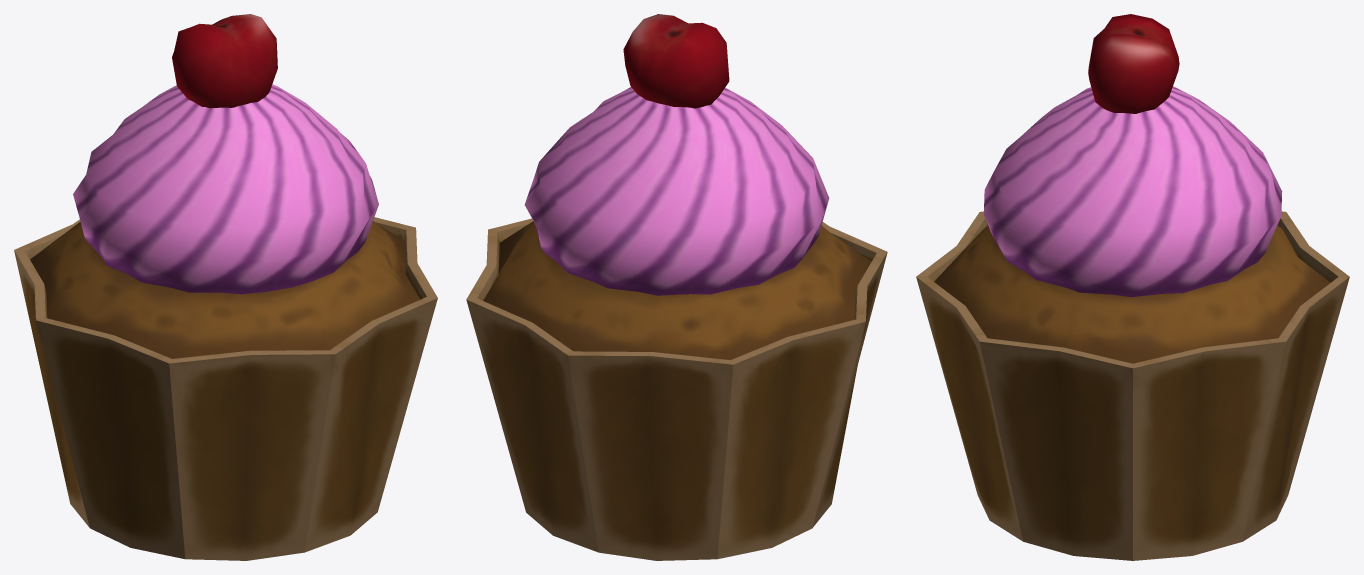
Rendered from cup_cake_001.fbx.
3 views of the same model, side by side, from view 1: azimuth 30°, elevation 25°; view 2: azimuth 150°, elevation 25°; view 3: azimuth 270°, elevation 25° (orthographic).
Parts seen in each view (by area): view 1: cup_cake_001; view 2: cup_cake_001; view 3: cup_cake_001.
Part boxes in pixels (x1,y1,x2,y2): cup_cake_001: [14, 14, 437, 560]; cup_cake_001: [466, 14, 887, 560]; cup_cake_001: [916, 14, 1349, 560].
Size of the model in its own units: 1.19 by 1.41 by 1.19.
Materials: 1 (1 with a texture image).
